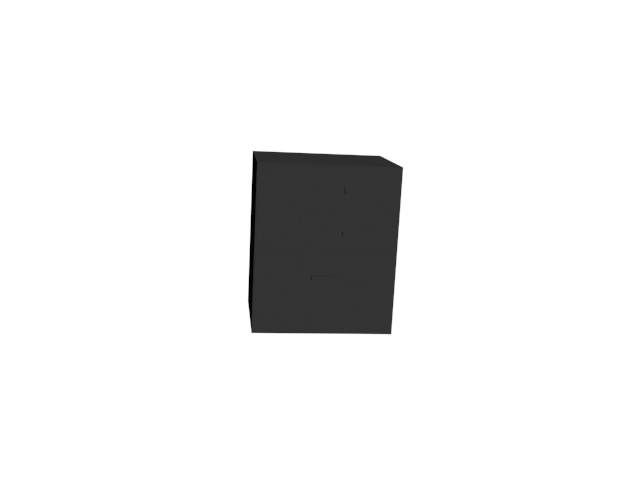file_cabinet: (242, 145, 408, 336)
